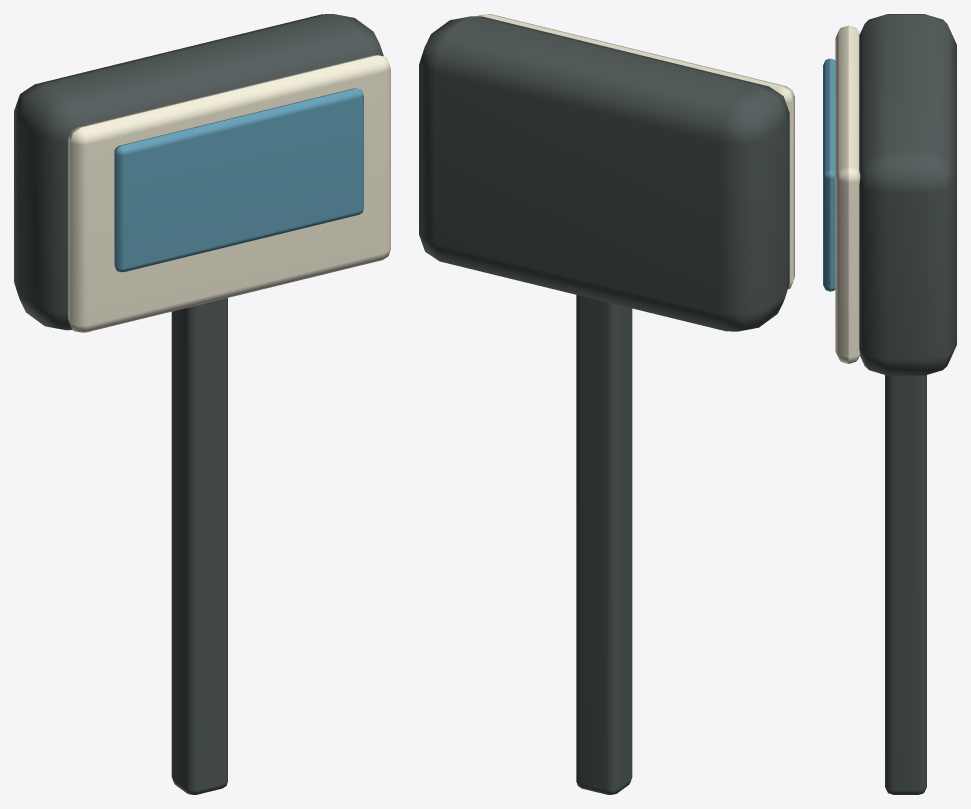
The model's file is SensorStakeMeter.glb.
The picture shows the model from 3 angles, left to right: view 1: azimuth 30°, elevation 25°; view 2: azimuth 150°, elevation 25°; view 3: azimuth 270°, elevation 25°; orthographic projection. The views are drawn at different scales.
Parts seen in each view (by area): view 1: SensorStakeMeter_Display_Face, SensorStakeMeter_Display_Screen, SensorStakeMeter_Display_Back, SensorStakeMeter_Stake; view 2: SensorStakeMeter_Display_Back, SensorStakeMeter_Stake, SensorStakeMeter_Display_Face; view 3: SensorStakeMeter_Display_Back, SensorStakeMeter_Stake, SensorStakeMeter_Display_Face, SensorStakeMeter_Display_Screen.
Boxes of the visible parts, left/top/right/bottom form: SensorStakeMeter_Display_Face: left=68, top=55, right=390, bottom=332; SensorStakeMeter_Display_Screen: left=114, top=88, right=363, bottom=272; SensorStakeMeter_Display_Back: left=14, top=14, right=383, bottom=330; SensorStakeMeter_Stake: left=171, top=298, right=227, bottom=794; SensorStakeMeter_Display_Back: left=419, top=16, right=789, bottom=331; SensorStakeMeter_Stake: left=576, top=295, right=632, bottom=794; SensorStakeMeter_Display_Face: left=478, top=14, right=794, bottom=289; SensorStakeMeter_Display_Back: left=859, top=14, right=956, bottom=375; SensorStakeMeter_Stake: left=885, top=375, right=926, bottom=794; SensorStakeMeter_Display_Face: left=835, top=25, right=860, bottom=363; SensorStakeMeter_Display_Screen: left=823, top=58, right=835, bottom=291.
Size of the model in its own units: 0.53 by 1.07 by 0.184.
